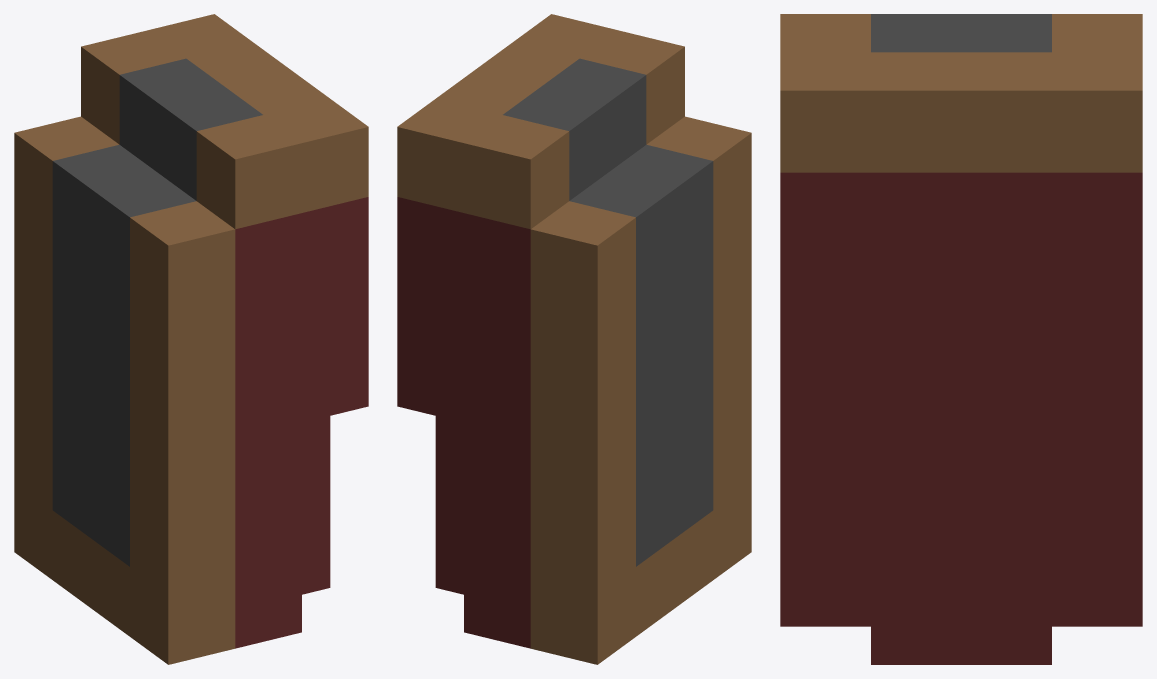
Rendered from humanoid-45-arm_med_3b_up_sh_color.obj.
The picture shows the model from 3 angles, left to right: view 1: azimuth 30°, elevation 25°; view 2: azimuth 150°, elevation 25°; view 3: azimuth 270°, elevation 25°; orthographic projection. The views are drawn at different scales.
Visible parts, largest first — view 1: arm_med_3b_up_sh_color; view 2: arm_med_3b_up_sh_color; view 3: arm_med_3b_up_sh_color.
Part boxes in pixels (x1,y1,x2,y2): arm_med_3b_up_sh_color: [14, 14, 368, 664]; arm_med_3b_up_sh_color: [397, 14, 751, 664]; arm_med_3b_up_sh_color: [780, 14, 1142, 664].
Bounding box in the file's own units: 0.3 × 0.7 × 0.4.
1 material, 1 textured.
